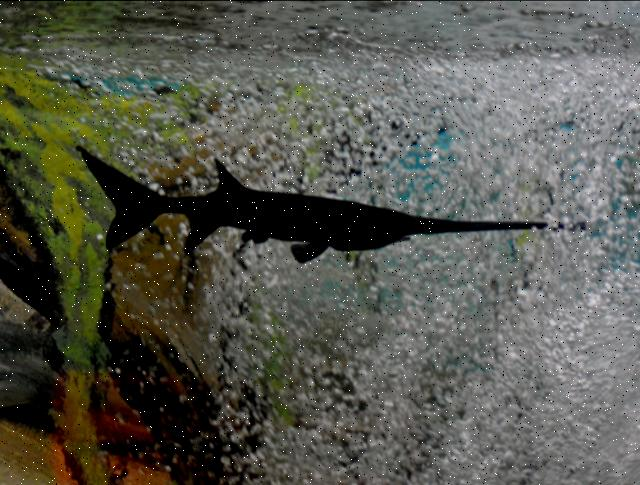Mulut: (385, 222, 427, 260)
Sirip Anal: (176, 212, 224, 266)
Sirip Dada: (283, 231, 339, 283)
Sirip Ekor: (70, 138, 166, 266)
Sirip Perut: (235, 224, 278, 256)
Sirip Punggung: (204, 148, 252, 196)
